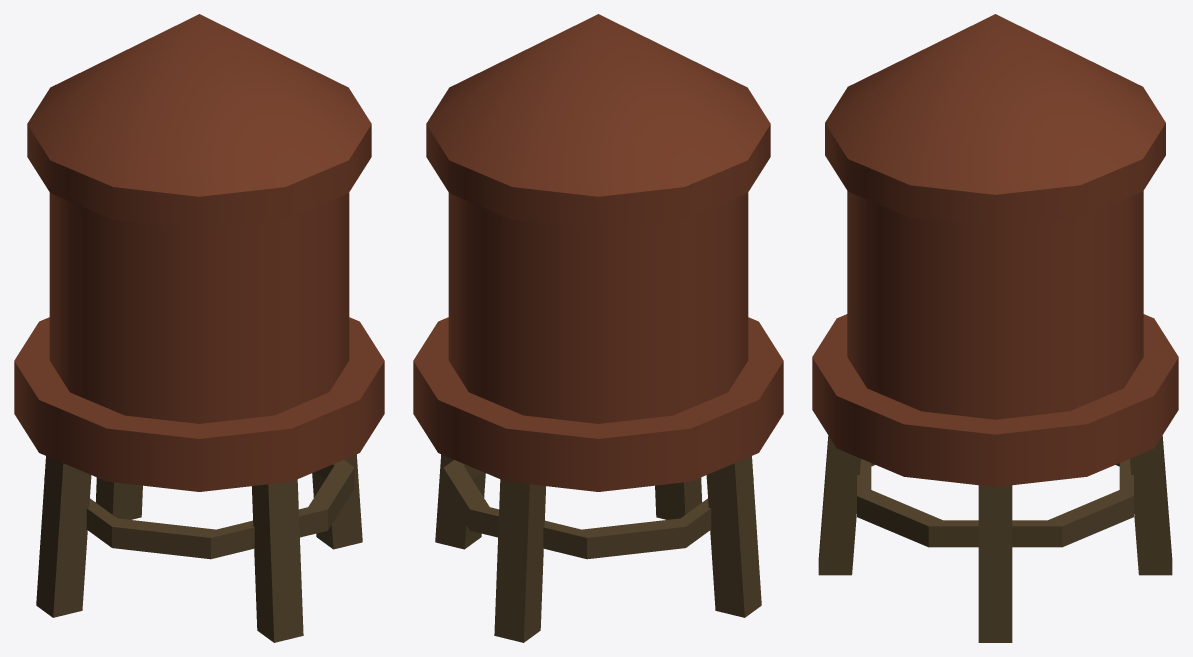
The model's file is Water Tank_1.fbx.
The picture shows the model from 3 angles, left to right: view 1: azimuth 30°, elevation 25°; view 2: azimuth 150°, elevation 25°; view 3: azimuth 270°, elevation 25°; orthographic projection.
Parts seen in each view (by area): view 1: Water Tank_1; view 2: Water Tank_1; view 3: Water Tank_1.
Part boxes in pixels (x1,y1,x2,y2): Water Tank_1: [14, 14, 384, 642]; Water Tank_1: [413, 14, 783, 642]; Water Tank_1: [812, 14, 1178, 642].
Bounding box in the file's own units: 135 × 225 × 135.
